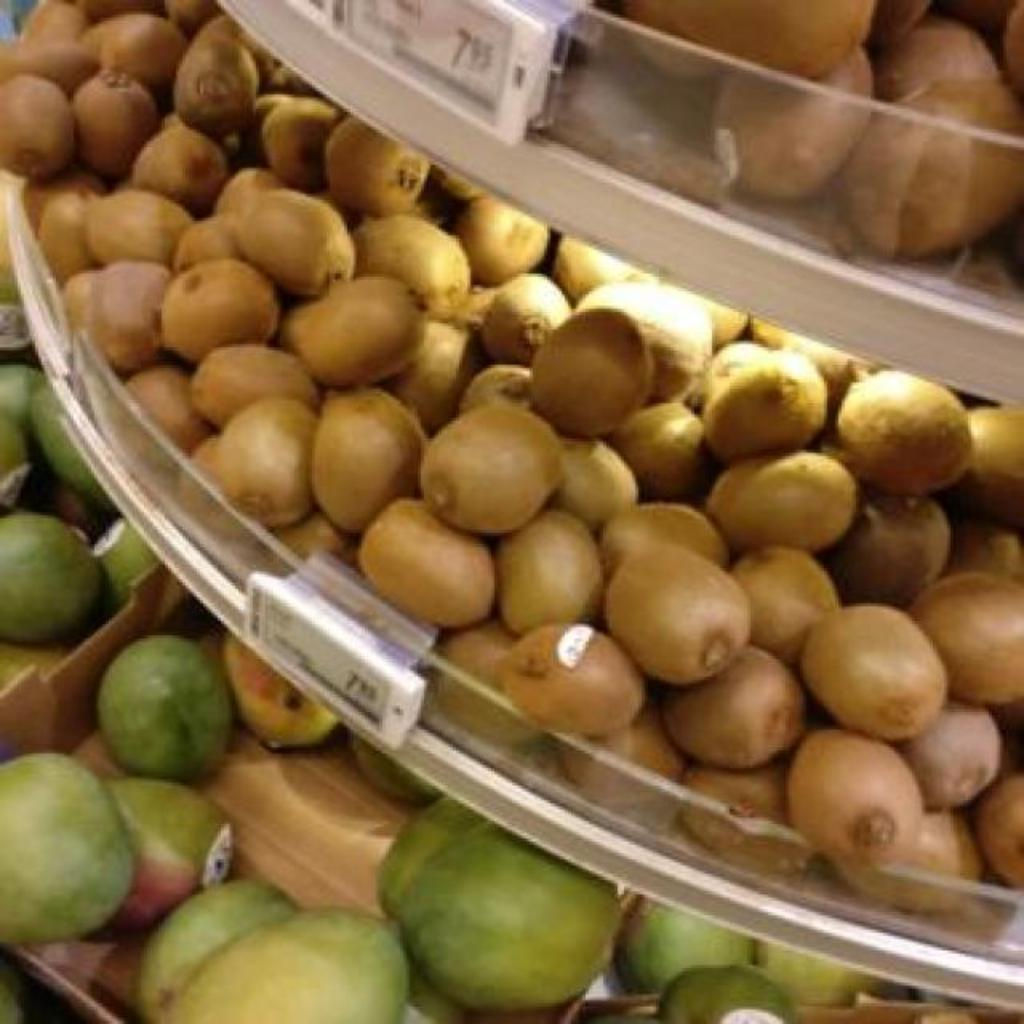kiwi: (848, 118, 1024, 254), (606, 546, 750, 682), (625, 0, 874, 78), (802, 606, 944, 738), (422, 402, 562, 534), (720, 80, 870, 200), (790, 730, 924, 864), (664, 646, 804, 768), (360, 500, 490, 628), (576, 282, 712, 400), (504, 624, 644, 736), (312, 390, 422, 532), (282, 276, 424, 386), (838, 370, 966, 492), (532, 310, 654, 436), (706, 452, 858, 552), (912, 572, 1024, 706), (202, 400, 318, 528), (706, 352, 826, 462), (498, 510, 604, 632), (830, 498, 948, 604), (732, 550, 840, 664), (238, 190, 354, 296), (356, 214, 470, 318), (752, 318, 866, 420), (162, 262, 278, 362), (190, 344, 320, 428), (878, 16, 1000, 100), (326, 118, 430, 216), (174, 18, 258, 138), (907, 702, 1000, 808), (132, 116, 228, 216), (386, 325, 474, 434), (0, 0, 98, 94), (602, 504, 730, 574), (90, 262, 170, 374), (612, 402, 704, 498), (76, 70, 158, 176), (86, 12, 188, 94), (0, 74, 76, 180), (958, 407, 1024, 528), (482, 274, 570, 364), (88, 188, 192, 264), (456, 194, 543, 284), (552, 439, 636, 530), (436, 681, 538, 748), (266, 98, 340, 190), (554, 236, 656, 302), (128, 370, 210, 452), (913, 76, 1024, 131), (686, 762, 786, 819), (609, 704, 684, 780), (438, 618, 516, 690), (978, 775, 1024, 886), (40, 192, 96, 282), (214, 168, 284, 236), (915, 810, 980, 877), (279, 512, 356, 561), (705, 342, 772, 398), (953, 518, 1024, 570), (175, 216, 240, 272), (461, 364, 532, 414), (66, 271, 100, 330), (830, 46, 870, 95), (165, 0, 218, 36)
